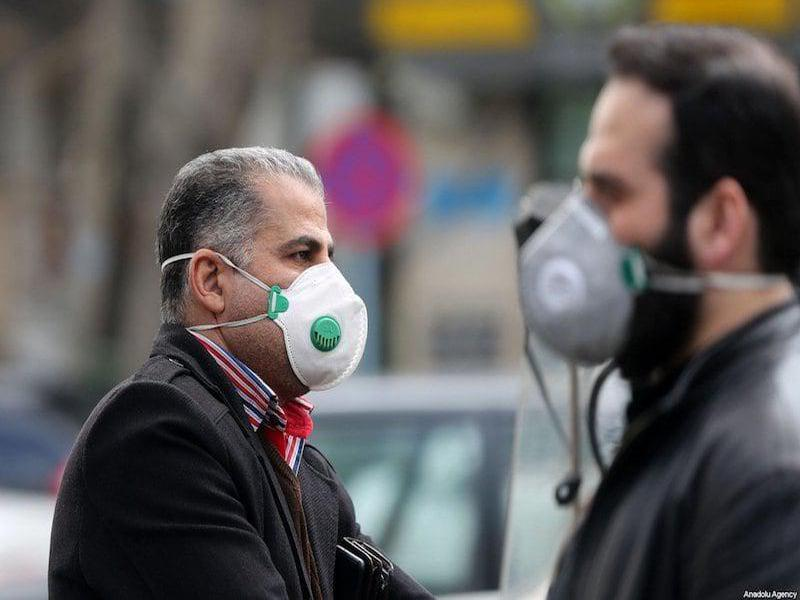with_mask: (510, 20, 800, 378), (156, 147, 370, 401)
